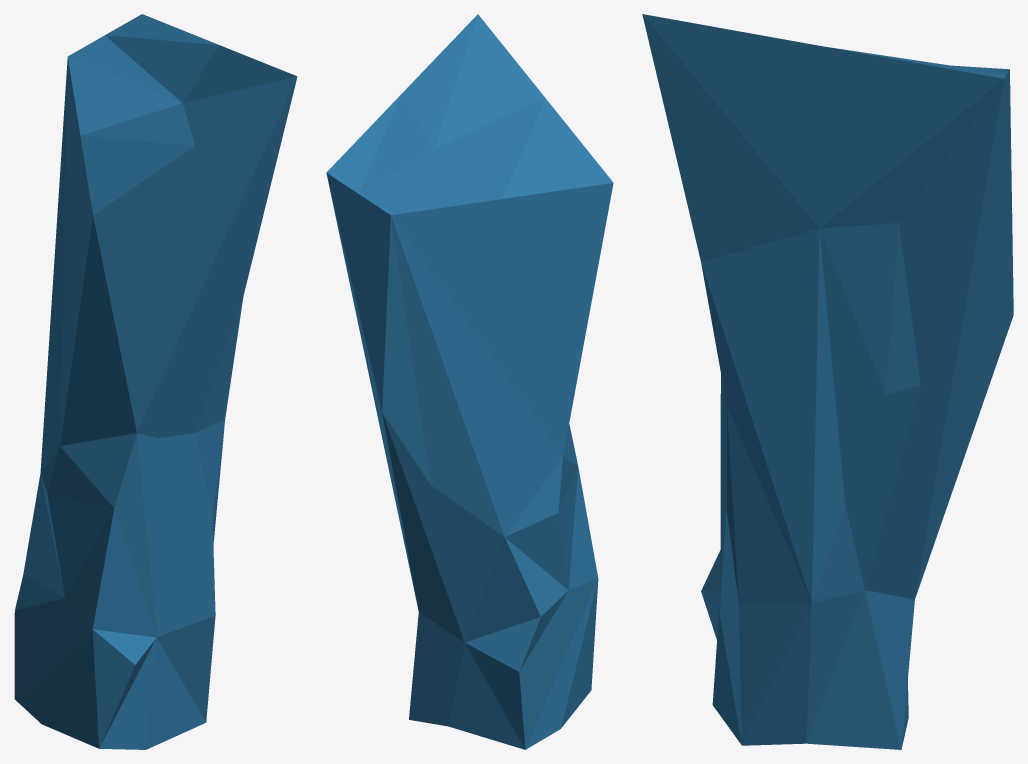
Rendered from SP_Rock07.fbx.
The picture shows the model from 3 angles, left to right: view 1: azimuth 30°, elevation 25°; view 2: azimuth 150°, elevation 25°; view 3: azimuth 270°, elevation 25°; orthographic projection. The views are drawn at different scales.
Visible parts, largest first — view 1: SP_Rock07; view 2: SP_Rock07; view 3: SP_Rock07.
Boxes of the visible parts, x1,y1,x2,y2 form: SP_Rock07: (14,14,297,749); SP_Rock07: (326,14,613,749); SP_Rock07: (642,14,1013,749).
Size of the model in its own units: 116 by 413 by 183.
1 material, 1 textured.
